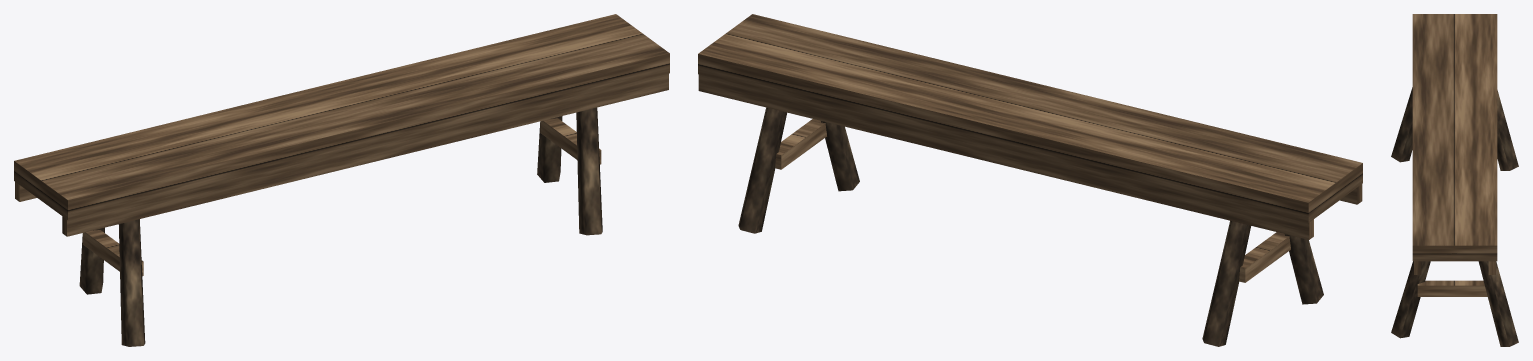
File: panca_assi.gltf
The picture shows the model from 3 angles, left to right: view 1: azimuth 30°, elevation 25°; view 2: azimuth 150°, elevation 25°; view 3: azimuth 270°, elevation 25°; orthographic projection. The views are drawn at different scales.
Parts seen in each view (by area): view 1: panca_assi; view 2: panca_assi; view 3: panca_assi.
Boxes of the visible parts, x1,y1,x2,y2 form: panca_assi: (14,14,669,346); panca_assi: (698,14,1362,346); panca_assi: (1391,14,1518,346).
Size of the model in its own units: 2.2 by 0.5456 by 0.5137.
Materials: 2 (2 with a texture image).
